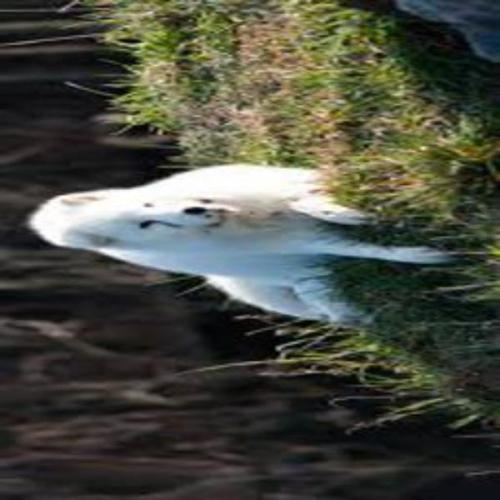arctic_fox-endangered: (32, 163, 454, 324)
